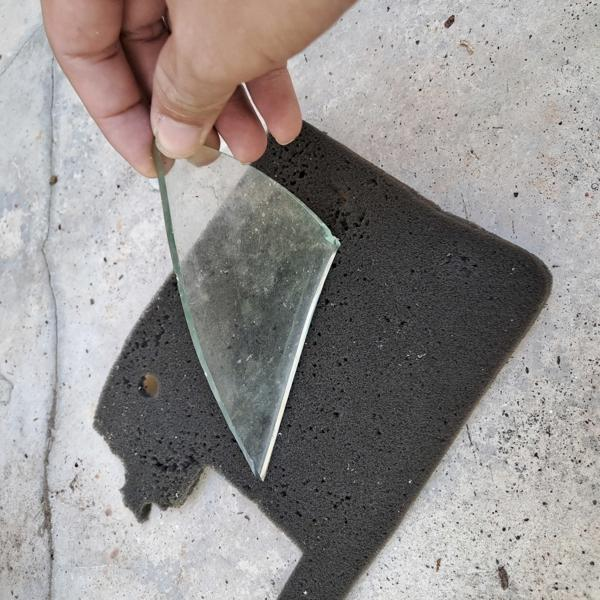Anorganik: (146, 164, 356, 481)
